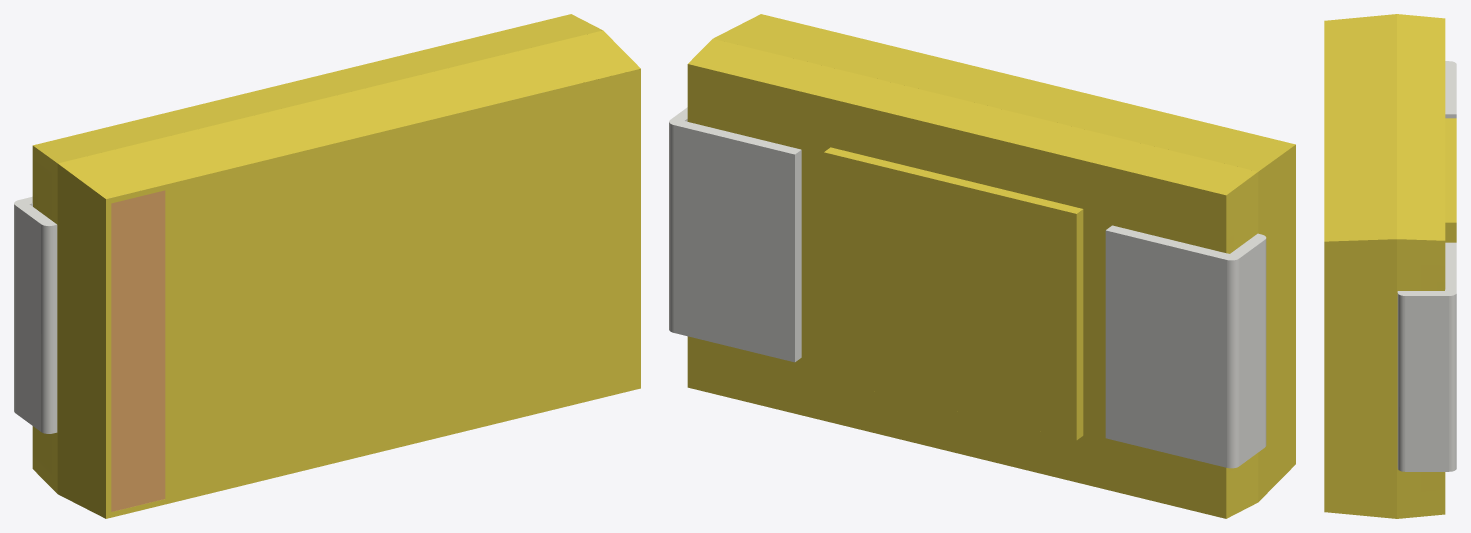
Rendered from CP_EIA-6032-15_Kemet-U.glb.
The picture shows the model from 3 angles, left to right: view 1: azimuth 30°, elevation 25°; view 2: azimuth 150°, elevation 25°; view 3: azimuth 270°, elevation 25°; orthographic projection. The views are drawn at different scales.
Visible parts, largest first — view 1: Shape_IndexedFaceSet.025, Shape_IndexedFaceSet.024, Shape_IndexedFaceSet.039, Shape_IndexedFaceSet.026, Shape_IndexedFaceSet.014, Shape_IndexedFaceSet.033, Shape_IndexedFaceSet.015, Shape_IndexedFaceSet.032, Shape_IndexedFaceSet.031; view 2: Shape_IndexedFaceSet.011, Shape_IndexedFaceSet.034, Shape_IndexedFaceSet, Shape_IndexedFaceSet.029, Shape_IndexedFaceSet.024, Shape_IndexedFaceSet.014, Shape_IndexedFaceSet.026, Shape_IndexedFaceSet.033, Shape_IndexedFaceSet.015, Shape_IndexedFaceSet.028, Shape_IndexedFaceSet.021, Shape_IndexedFaceSet.022 (+4 smaller); view 3: Shape_IndexedFaceSet.013, Shape_IndexedFaceSet.024, Shape_IndexedFaceSet.014, Shape_IndexedFaceSet.005, Shape_IndexedFaceSet.010, Shape_IndexedFaceSet.006, Shape_IndexedFaceSet.002, Shape_IndexedFaceSet.021, Shape_IndexedFaceSet.001, Shape_IndexedFaceSet.016, Shape_IndexedFaceSet.019.
Part boxes in pixels (x1,y1,x2,y2): Shape_IndexedFaceSet.025: [106, 69, 640, 518]; Shape_IndexedFaceSet.024: [58, 30, 640, 198]; Shape_IndexedFaceSet.039: [111, 190, 165, 511]; Shape_IndexedFaceSet.026: [57, 164, 105, 518]; Shape_IndexedFaceSet.014: [33, 14, 602, 163]; Shape_IndexedFaceSet.033: [15, 205, 40, 431]; Shape_IndexedFaceSet.015: [32, 146, 57, 493]; Shape_IndexedFaceSet.032: [41, 224, 53, 433]; Shape_IndexedFaceSet.031: [53, 225, 57, 433]; Shape_IndexedFaceSet.011: [687, 64, 1226, 518]; Shape_IndexedFaceSet.034: [824, 152, 1076, 440]; Shape_IndexedFaceSet: [673, 125, 794, 362]; Shape_IndexedFaceSet.029: [1105, 230, 1226, 467]; Shape_IndexedFaceSet.024: [713, 14, 1295, 171]; Shape_IndexedFaceSet.014: [688, 39, 1257, 195]; Shape_IndexedFaceSet.026: [1258, 145, 1295, 501]; Shape_IndexedFaceSet.033: [1239, 240, 1264, 465]; Shape_IndexedFaceSet.015: [1226, 172, 1258, 518]; Shape_IndexedFaceSet.028: [1227, 259, 1239, 468]; Shape_IndexedFaceSet.021: [824, 147, 1082, 213]; Shape_IndexedFaceSet.022: [1076, 209, 1083, 439]; Shape_IndexedFaceSet.013: [1324, 239, 1396, 518]; Shape_IndexedFaceSet.024: [1324, 14, 1396, 241]; Shape_IndexedFaceSet.014: [1397, 14, 1445, 240]; Shape_IndexedFaceSet.005: [1405, 296, 1448, 471]; Shape_IndexedFaceSet.010: [1397, 239, 1445, 518]; Shape_IndexedFaceSet.006: [1397, 293, 1405, 471]; Shape_IndexedFaceSet.002: [1449, 294, 1456, 471]; Shape_IndexedFaceSet.021: [1445, 118, 1456, 222]; Shape_IndexedFaceSet.001: [1397, 242, 1456, 295]; Shape_IndexedFaceSet.016: [1445, 61, 1456, 114]; Shape_IndexedFaceSet.019: [1445, 222, 1456, 242].
Bounding box in the file's own units: 2.48 × 1.38 × 0.591.
